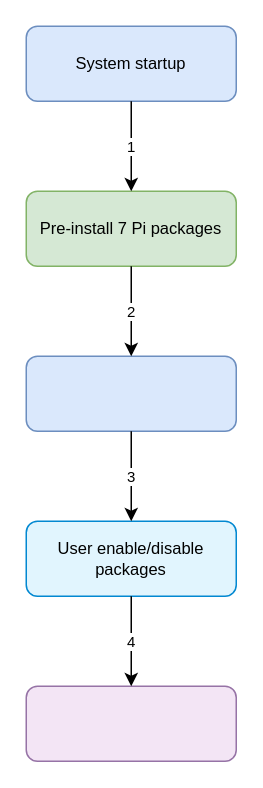
The diagram is 263 pixels wide and 788 high, and some of its shapes have lost their labels. The shapes that lost their labels are listed below. From the top down, each one's centre as x and y in pixels, then its label:
At point (130, 393): "Render Packages tab in Settings".
At point (130, 723): "Persist state & feedback".
